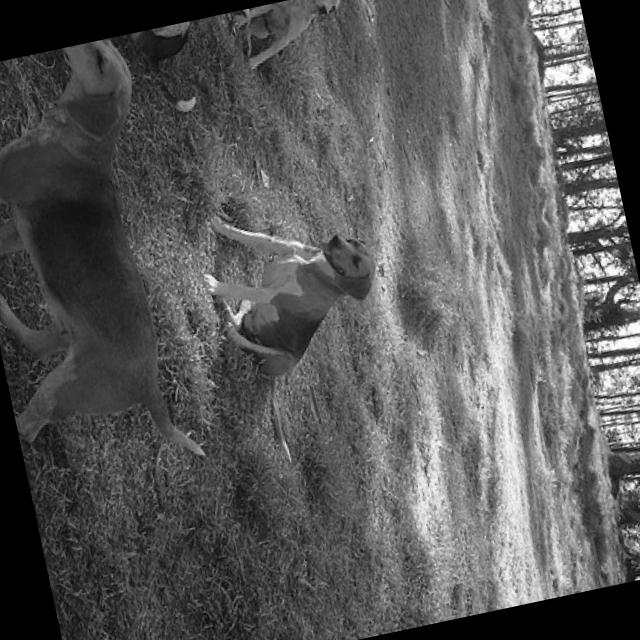sitting: (182, 178, 416, 476), (223, 0, 357, 81)
